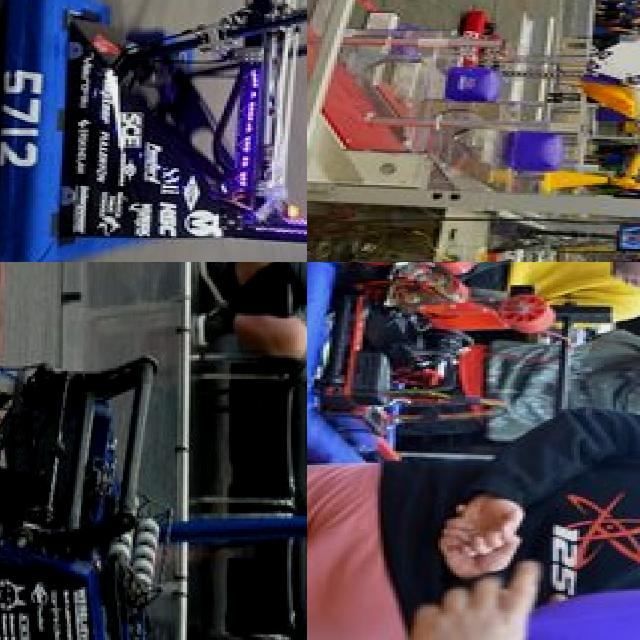FRC-Robots: (0, 307, 307, 640), (0, 0, 307, 262), (307, 262, 640, 471), (307, 0, 640, 114), (450, 6, 640, 134)
